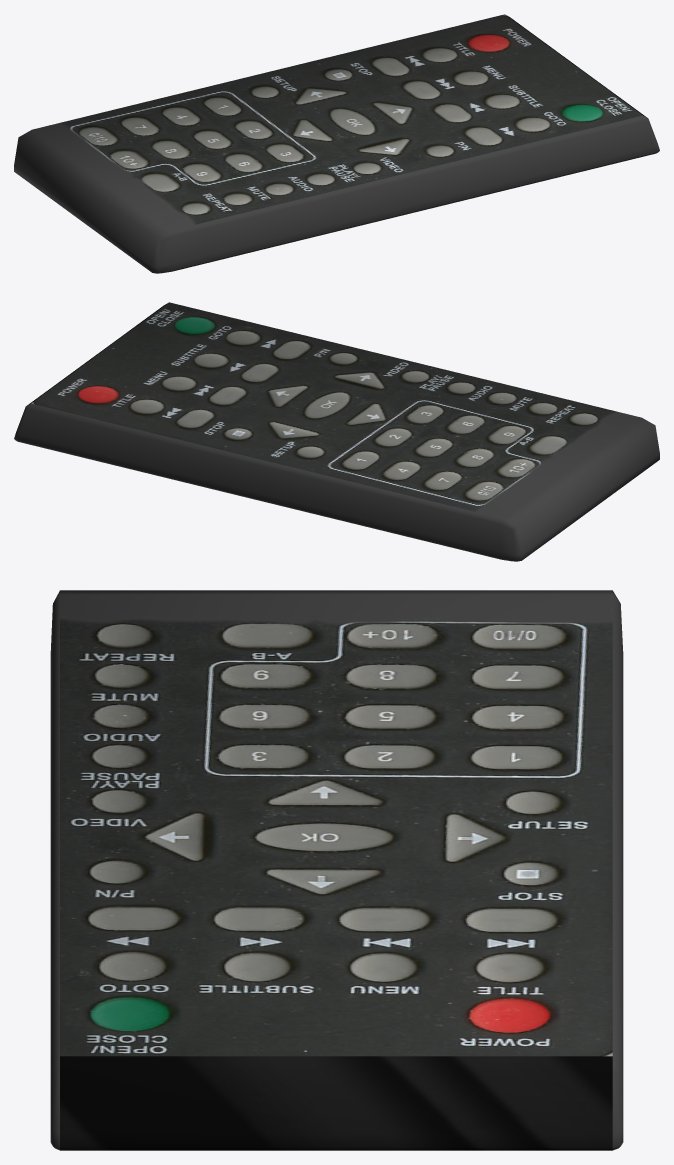
The model's file is DVD Remote.FBX.
3 renders of one model, top to bottom at view 1: azimuth 30°, elevation 25°; view 2: azimuth 150°, elevation 25°; view 3: azimuth 270°, elevation 25°, orthographic. The views are drawn at different scales.
Parts seen in each view (by area): view 1: Remote; view 2: Remote; view 3: Remote.
Part boxes in pixels (x1,y1,x2,y2): Remote: (14, 14, 659, 273); Remote: (14, 302, 659, 561); Remote: (50, 590, 623, 1150).
Size of the model in its own units: 6.76 by 0.5118 by 3.31.
Materials: 1 (1 with a texture image).
